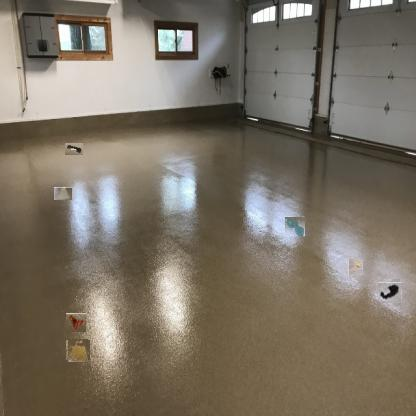dirty: (380, 281, 401, 302), (67, 313, 86, 332), (54, 187, 73, 200), (348, 259, 363, 275), (65, 143, 83, 155)
liquid: (67, 340, 89, 362), (286, 216, 306, 236)
